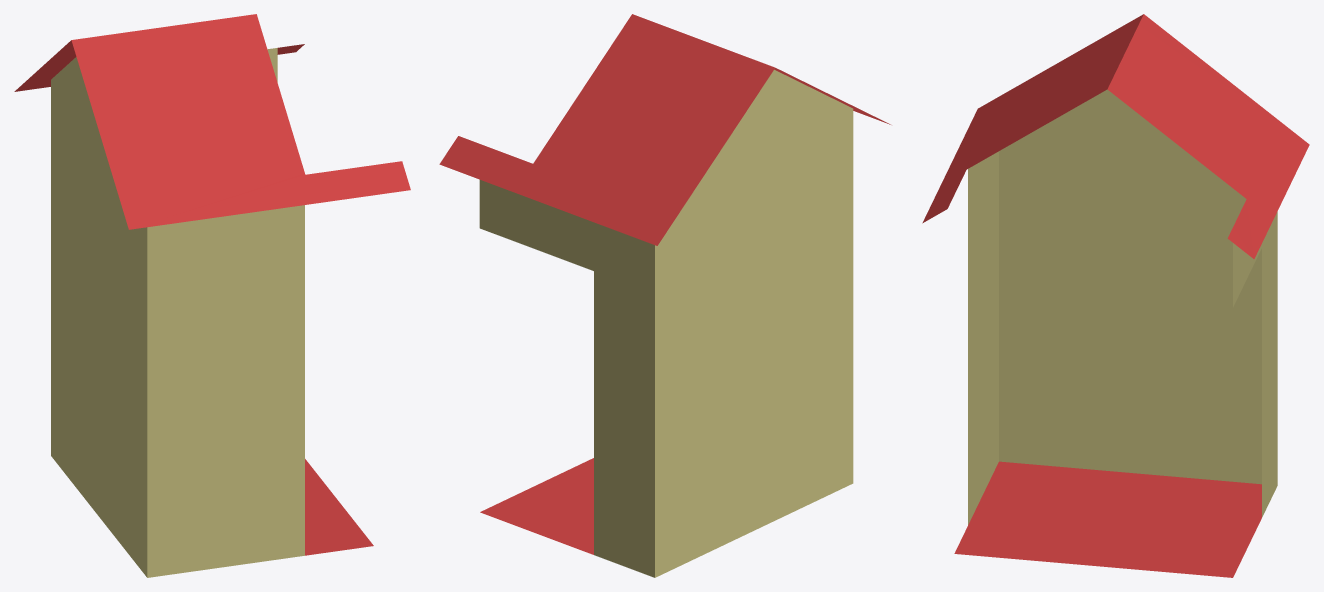
3 views of the same model, side by side, from view 1: azimuth 30°, elevation 25°; view 2: azimuth 150°, elevation 25°; view 3: azimuth 270°, elevation 25° (orthographic). The views are drawn at different scales.
Size of the model in its own units: 9.36 by 10.69 by 13.64.
